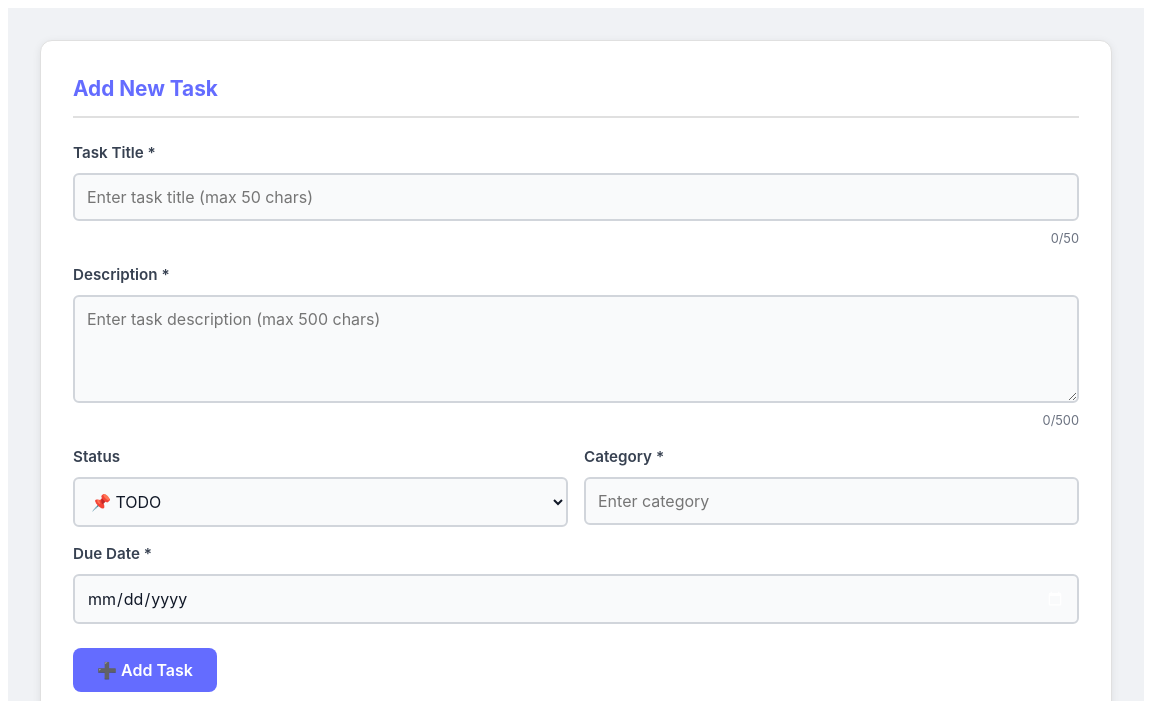
Test case: TaskForm – date and character-set validation › shows error when title contains < or >
In the field labelled "Task Title *": (576, 197) [73,173,1079,221], type "<script>xss</script>"
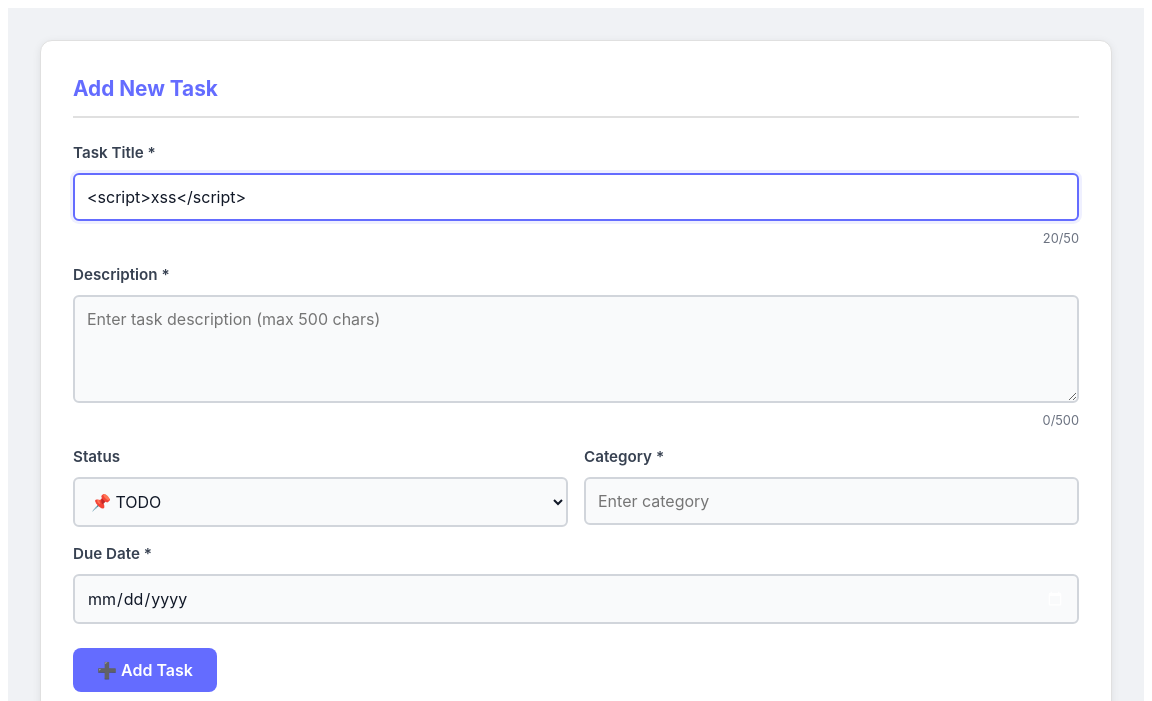
In the text box labelled "Description *": (576, 349) [73,295,1079,403], type "Desc"
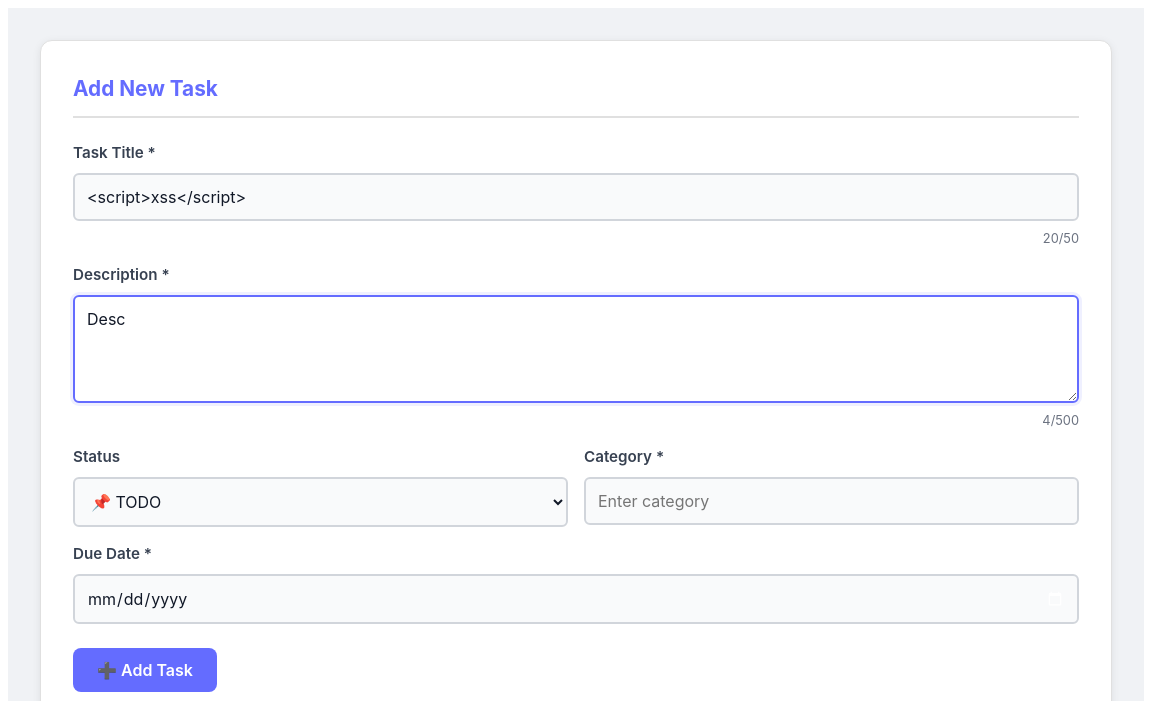
In the field labelled "Category *": (832, 501) [584,477,1079,525], type "Work"
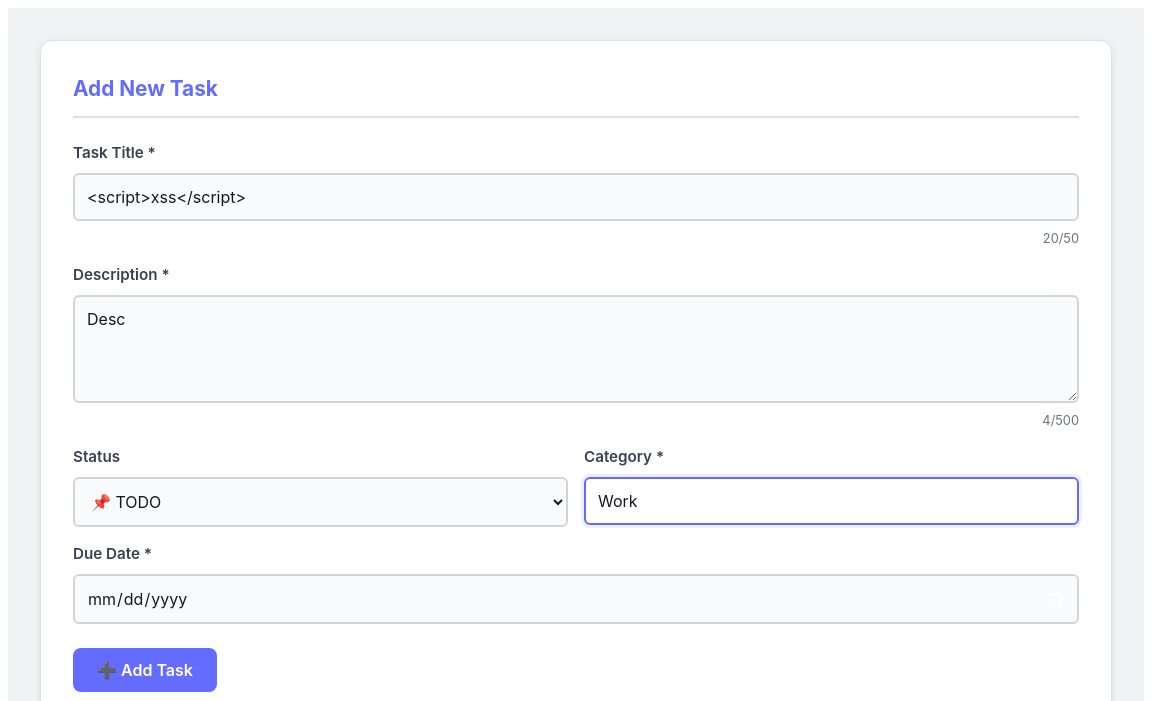
In the date field labelled "Due Date *": (576, 599) [73,574,1079,624], type "2026-12-31"
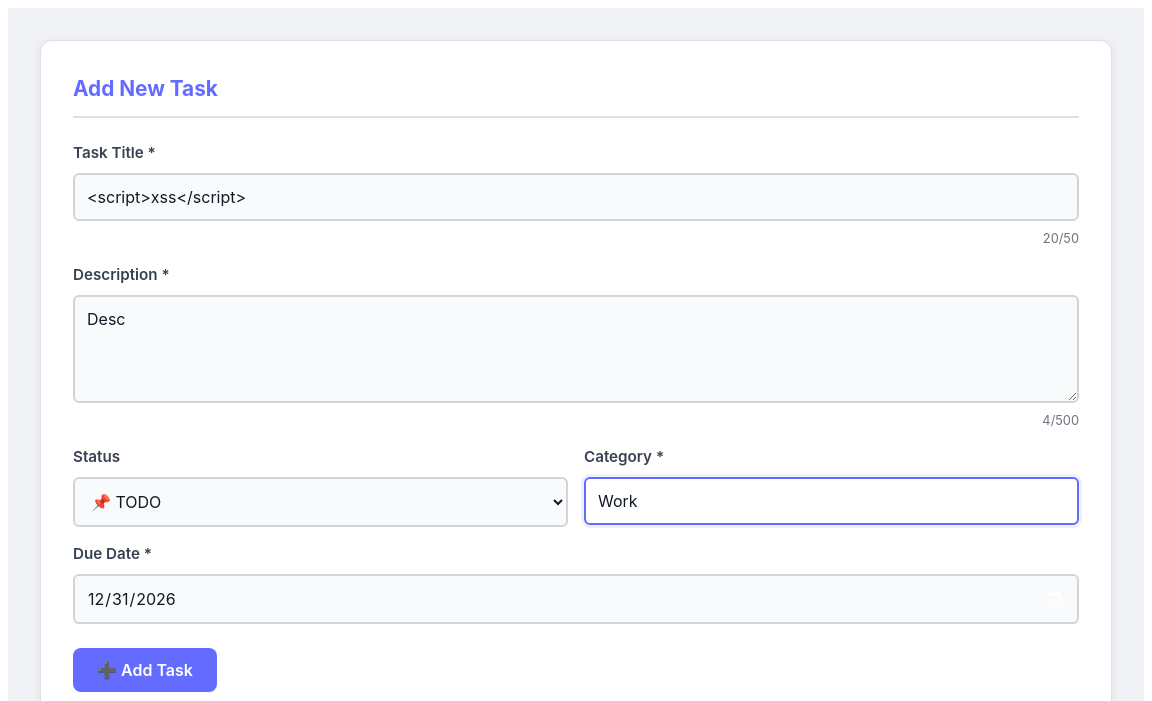
Submit the form
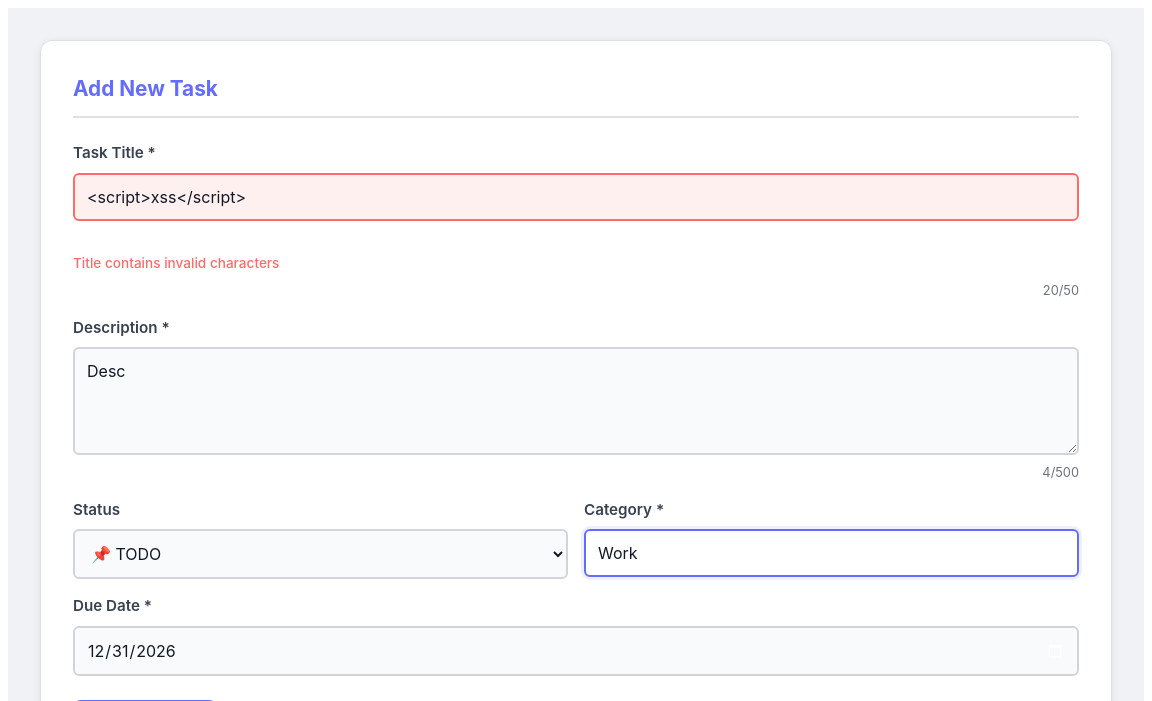
Expected: the text "Title contains invalid characters" is shown, [73,255,280,271]
